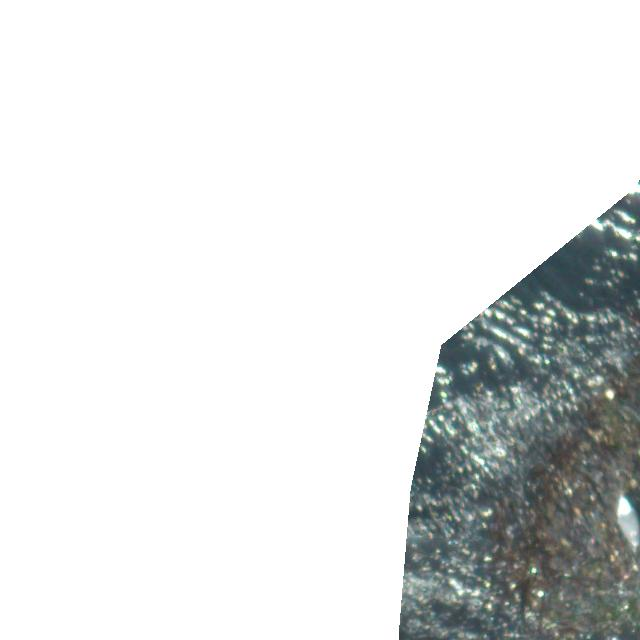umineko: (615, 494, 639, 551)
